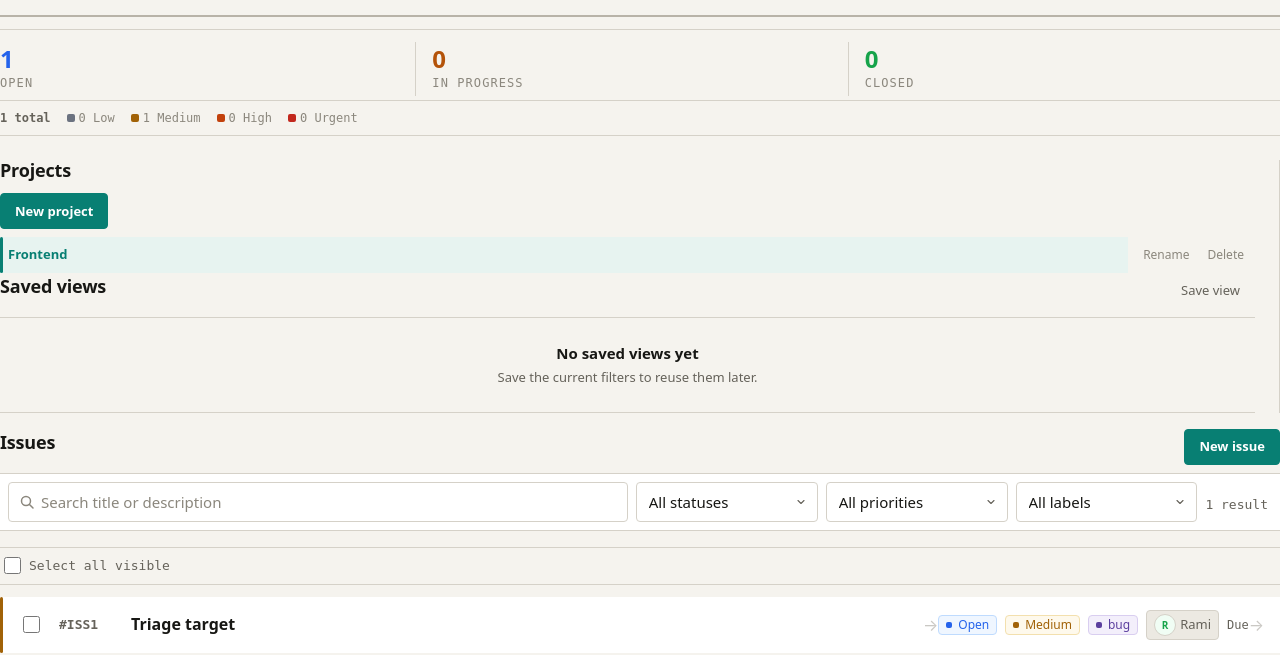
WorkspacePage Quick Edit › shows a row-local Alert and preserves the value when the PATCH fails
This screenshot has width=1280, height=655.
Expected: the text "Triage target" is shown, [131,613,235,635]
Click the button with aria-label "Change status, currently Open" at (968,624), box [938,614,997,634]
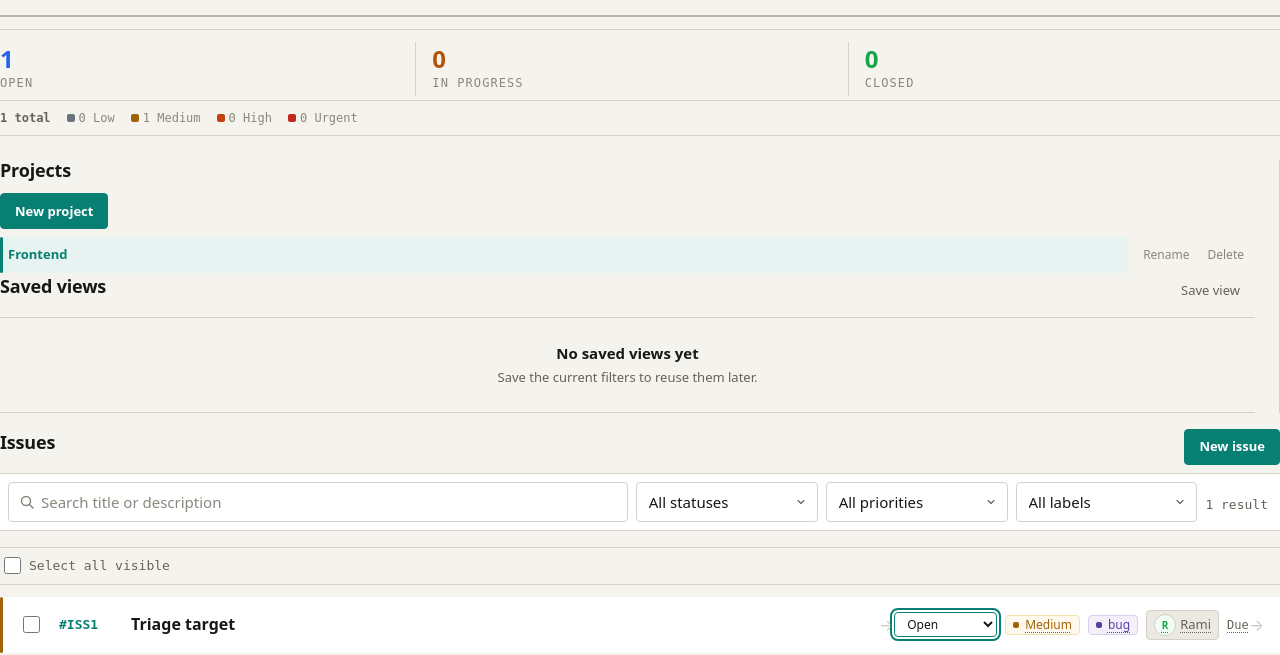
Select "In Progress" in the dropdown named "Change status, currently Open" at (946,624), box [894,612,997,637]
(page scrolled)
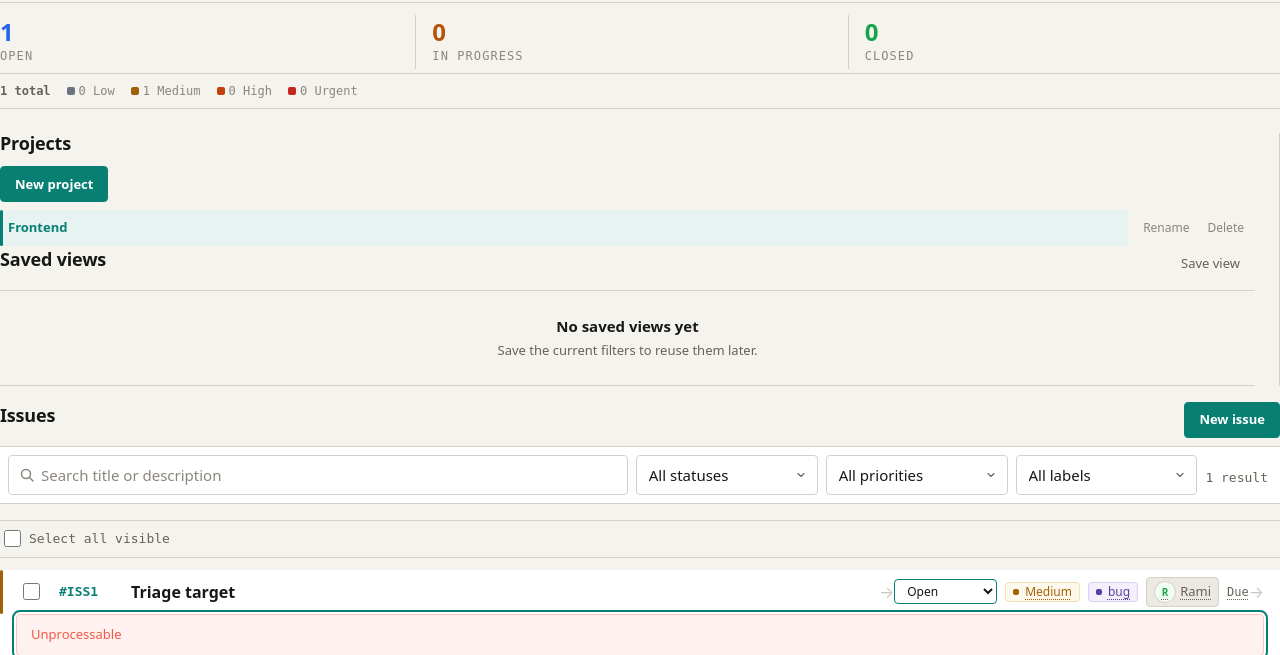
Now the message reads "Unprocessable", box [31,625,122,643]
